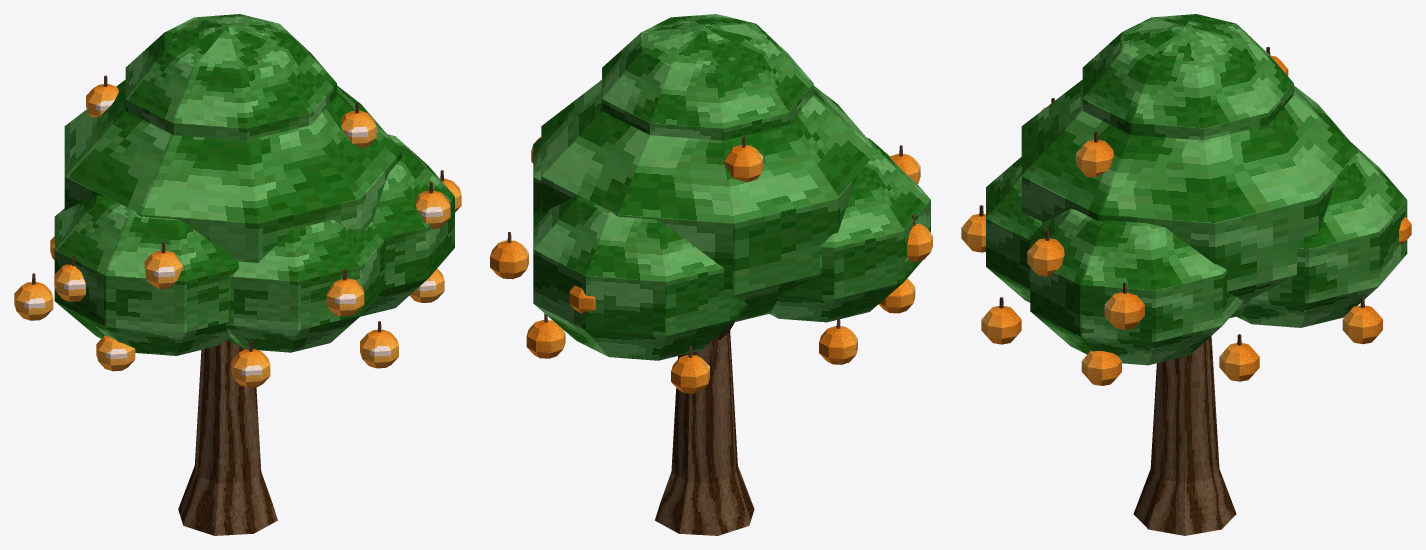
File: arvore_frutifera_laranjeira.glb
3 views of the same model, side by side, from view 1: azimuth 30°, elevation 25°; view 2: azimuth 150°, elevation 25°; view 3: azimuth 270°, elevation 25° (orthographic).
Parts seen in each view (by area): view 1: Tree_Body, Fruits; view 2: Tree_Body, Fruits; view 3: Tree_Body, Fruits.
Part boxes in pixels (bbox=[...]): Tree_Body: bbox=[32, 14, 454, 535]; Fruits: bbox=[14, 84, 461, 387]; Tree_Body: bbox=[507, 14, 930, 535]; Fruits: bbox=[490, 136, 932, 393]; Tree_Body: bbox=[979, 14, 1407, 535]; Fruits: bbox=[961, 55, 1411, 385].
Size of the model in its own units: 3.61 by 4.21 by 3.52.
Materials: 1 (1 with a texture image).
